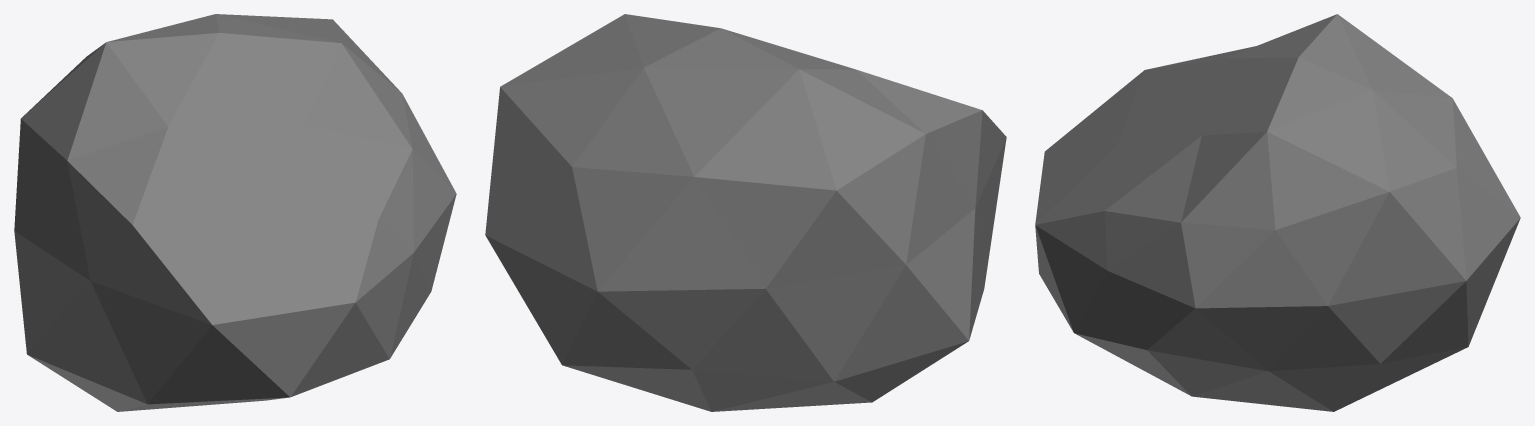
File: rock-m-round.glb
3 views of the same model, side by side, from view 1: azimuth 30°, elevation 25°; view 2: azimuth 150°, elevation 25°; view 3: azimuth 270°, elevation 25° (orthographic). The views are drawn at different scales.
Parts seen in each view (by area): view 1: rock-m-round; view 2: rock-m-round; view 3: rock-m-round.
Part boxes in pixels (left/top/right/bottom): rock-m-round: left=14, top=14, right=456, bottom=411; rock-m-round: left=485, top=14, right=1006, bottom=411; rock-m-round: left=1035, top=14, right=1520, bottom=411.
Bounding box in the file's own units: 1.75 × 1.4 × 1.89.
1 material, 1 textured.
